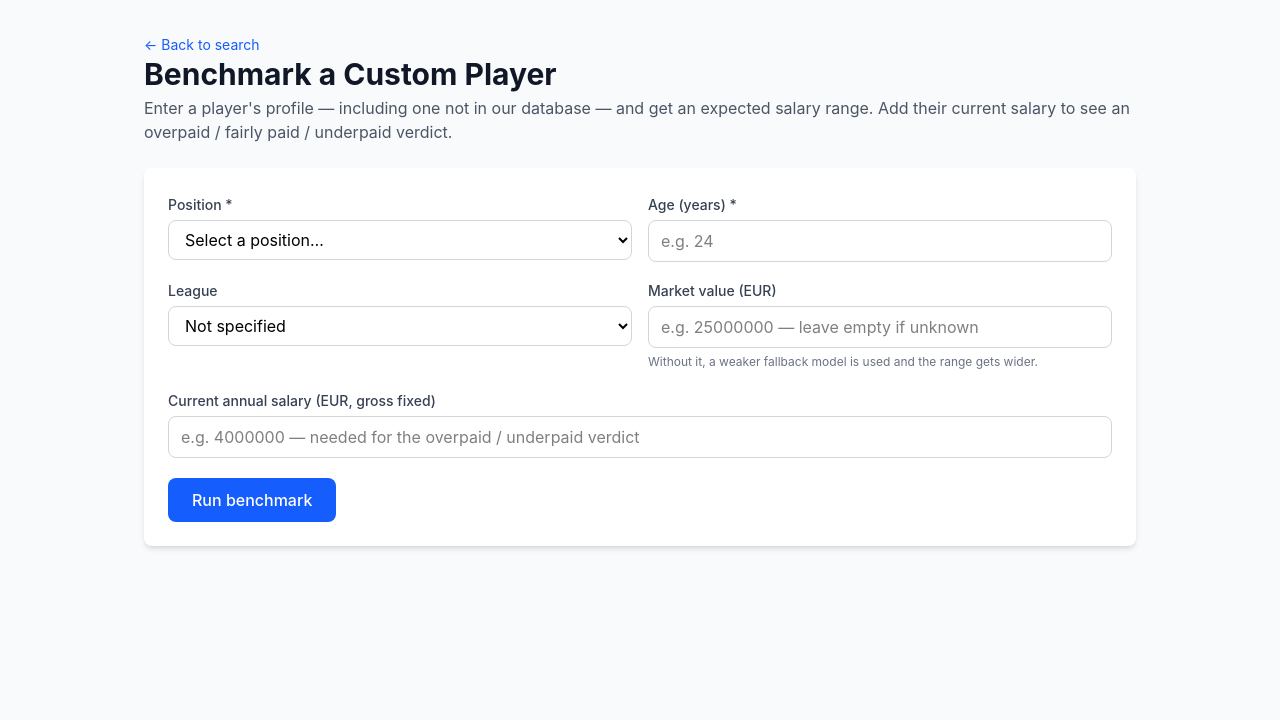
Scenario: ManualBenchmark page › submits the form and renders the result
Select "Centre-Forward" in the dropdown labelled "Position *" at (400, 240), box x1=168 y1=220 x2=632 y2=260
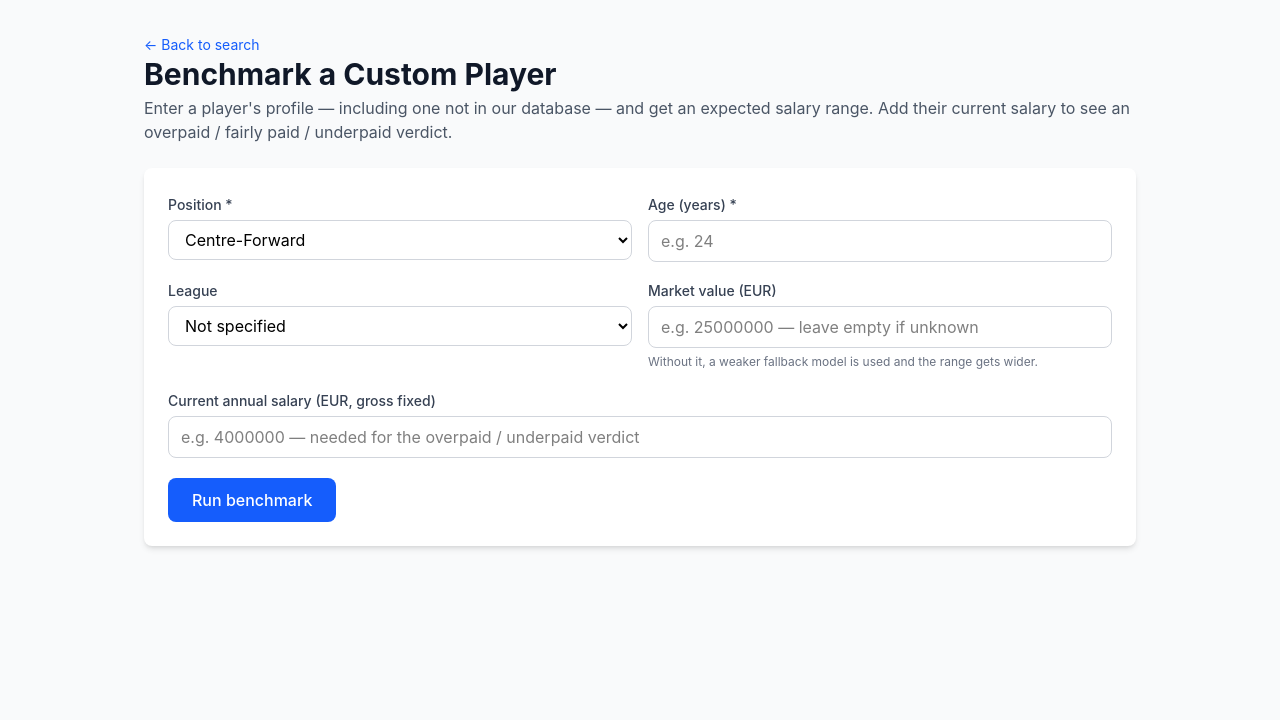
Type "25" into the number field labelled "Age (years) *" at (880, 241), box x1=648 y1=220 x2=1112 y2=262
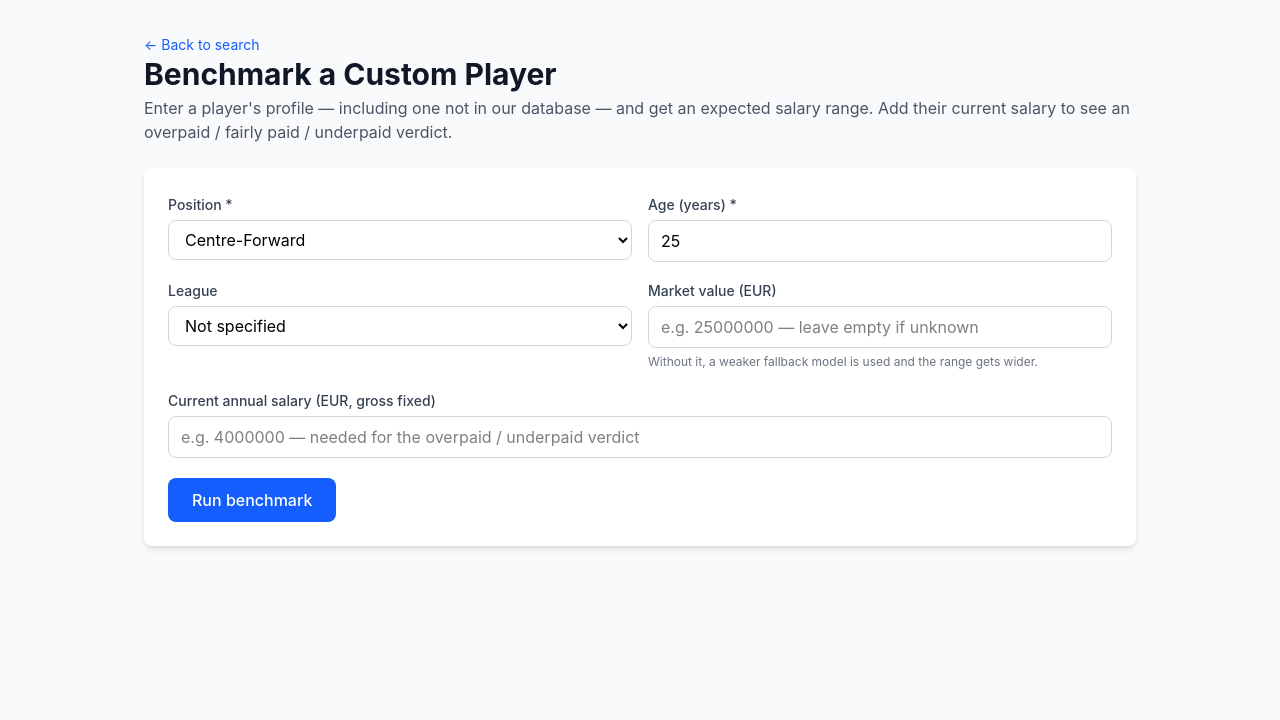
Select "Premier League (England)" in the dropdown labelled "League" at (400, 326), box x1=168 y1=306 x2=632 y2=346
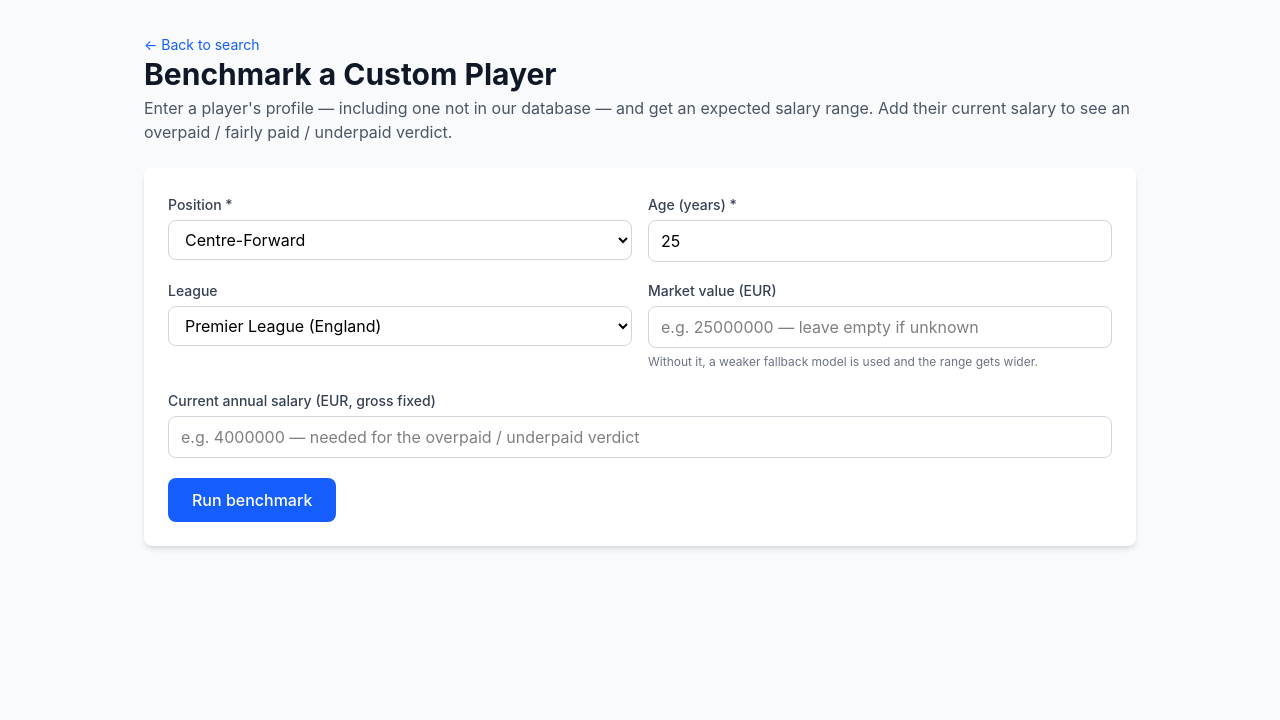
Type "50000000" into the number field labelled "Market value (EUR)" at (880, 327), box x1=648 y1=306 x2=1112 y2=348
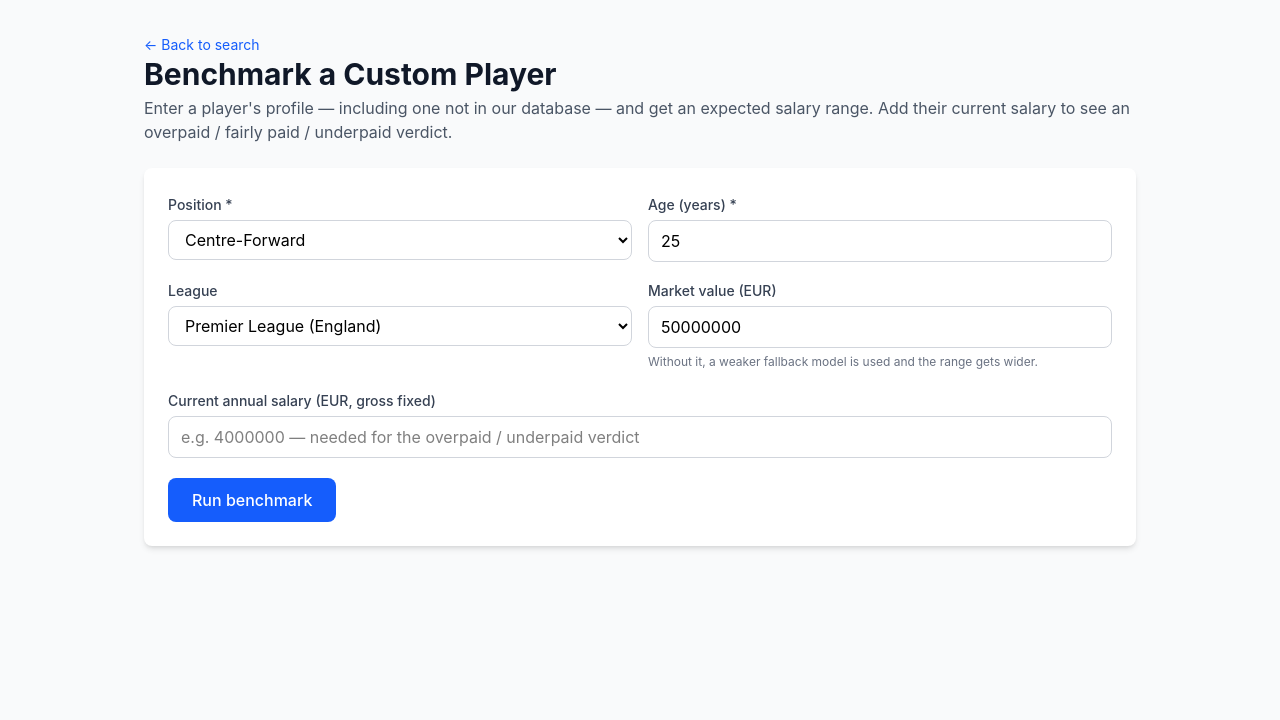
Click the button "Run benchmark" at (252, 500), box x1=168 y1=478 x2=336 y2=522
(page scrolled)
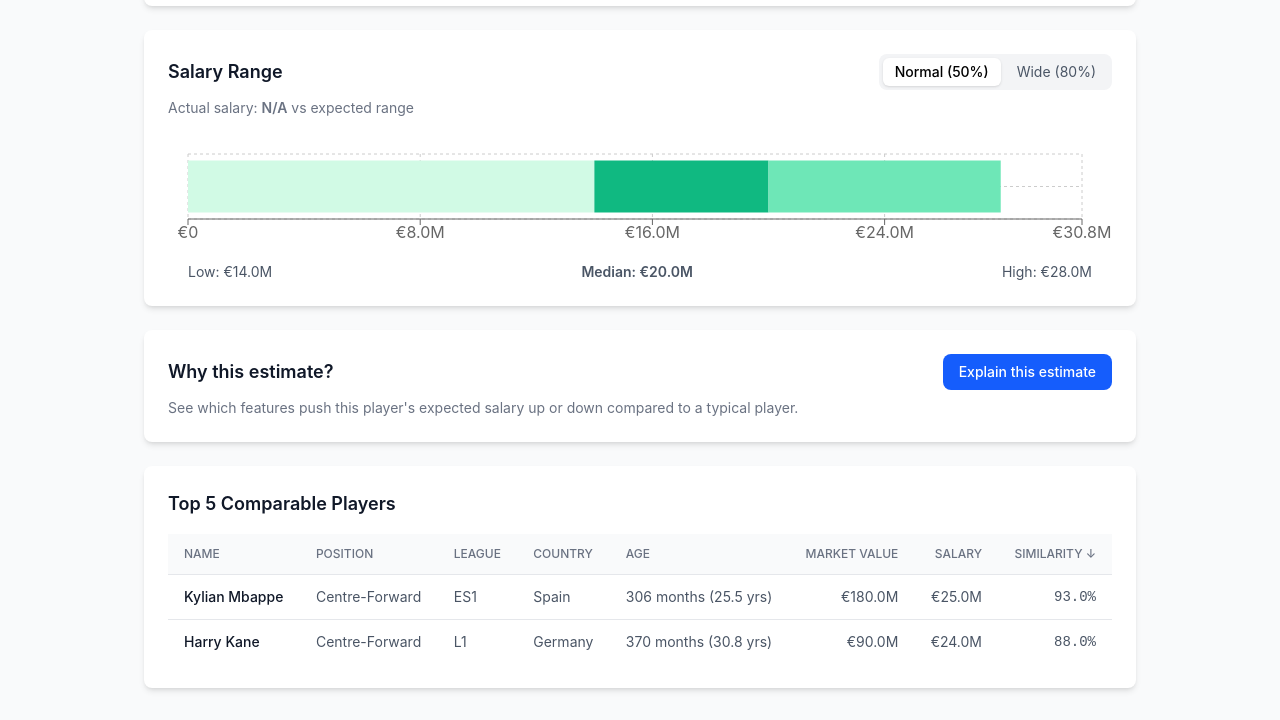
Expected: the heading "Salary Range" is shown, x1=168 y1=58 x2=283 y2=86
Expected: the text "Kylian Mbappe" is shown, x1=168 y1=574 x2=300 y2=620
